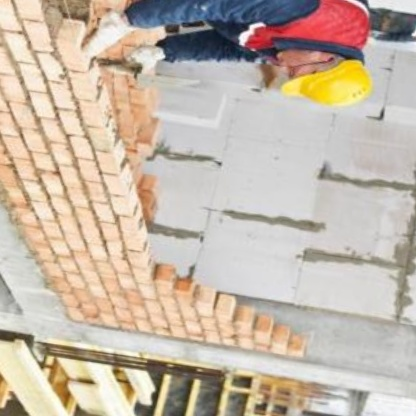yellow: (272, 47, 381, 114)
